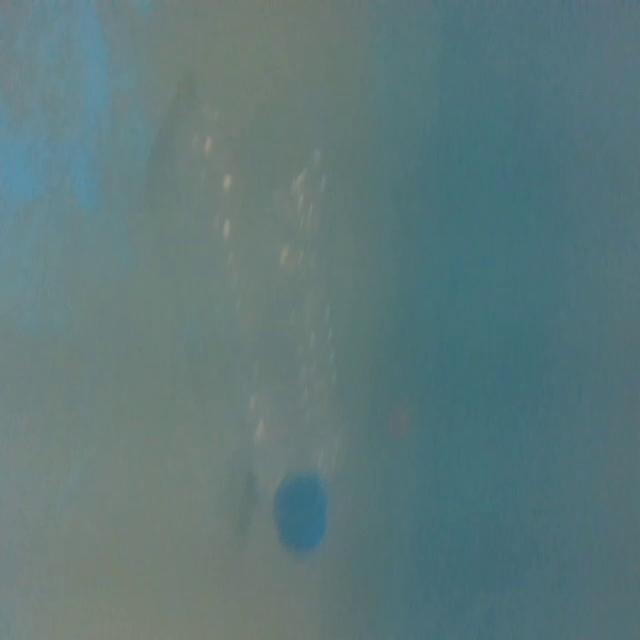plastic bottle: (192, 96, 358, 559)
